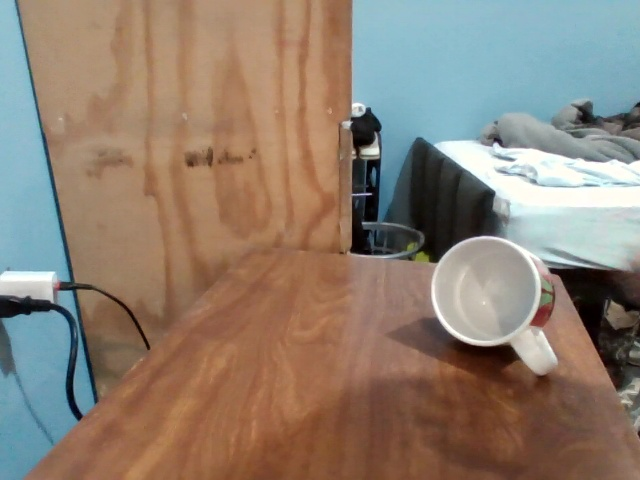taza: (431, 235, 559, 376)
